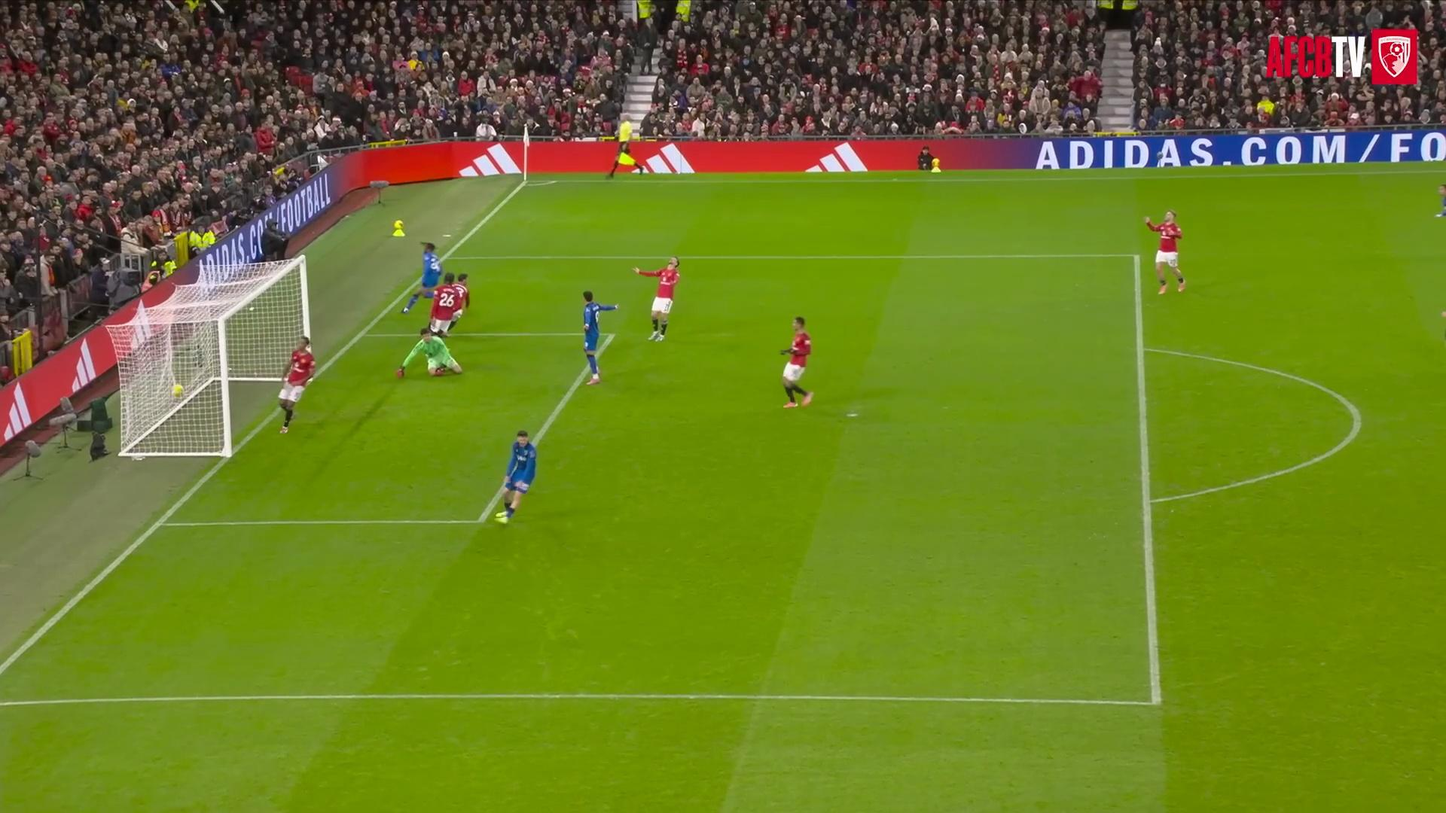football: (168, 376, 188, 405)
player: (633, 256, 679, 340), (495, 431, 535, 523), (279, 336, 314, 434), (1145, 210, 1185, 294), (583, 291, 618, 384), (396, 328, 462, 377), (780, 316, 812, 407), (401, 243, 441, 313), (430, 273, 461, 337), (448, 273, 469, 332), (1435, 184, 1445, 217)
referee: (607, 117, 635, 178)
